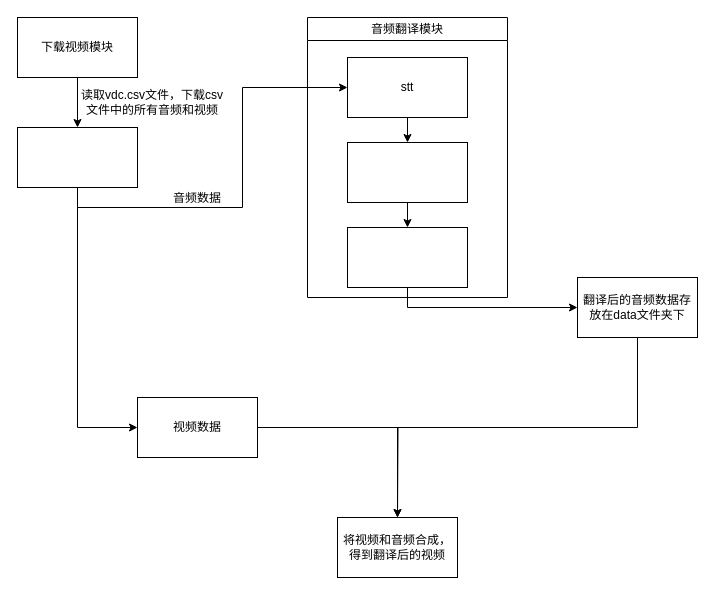
The diagram is 715 pixels wide and 595 high, and some of its shapes have lost their labels. Here are the shapes that lost their labels. From the top down, the centre of each, then its label:
the point at 77,157: 数据存到data文件夹下
the point at 407,172: 文本翻译
the point at 407,257: tts
